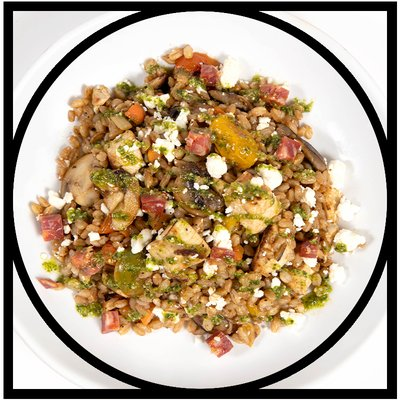curry: (90, 168, 135, 192)
